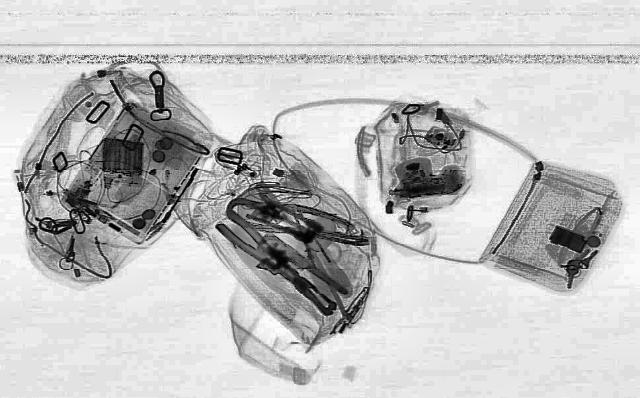Pliers: (210, 212, 322, 296)
